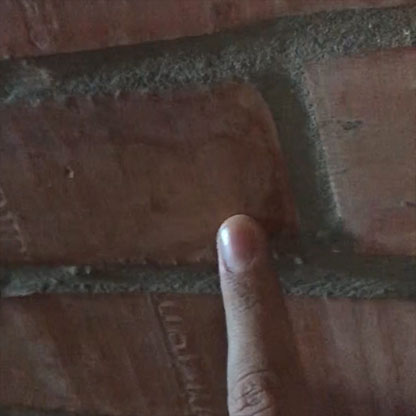fingertip: (208, 205, 276, 277)
